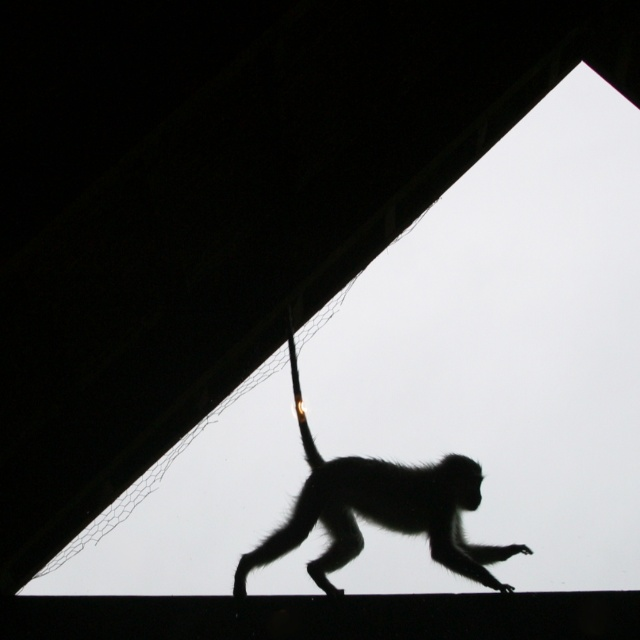Monkey: (225, 388, 525, 605)
